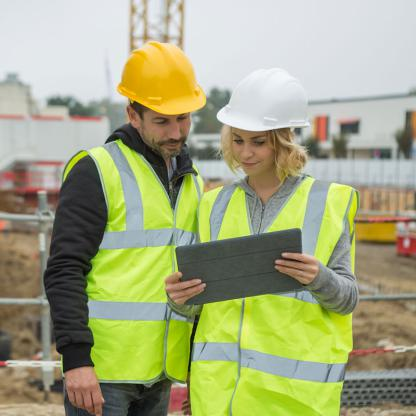helmet: (117, 40, 207, 115), (214, 67, 312, 134)
person: (49, 72, 197, 416), (194, 114, 361, 415)
vest: (197, 176, 358, 415), (75, 138, 206, 387)
